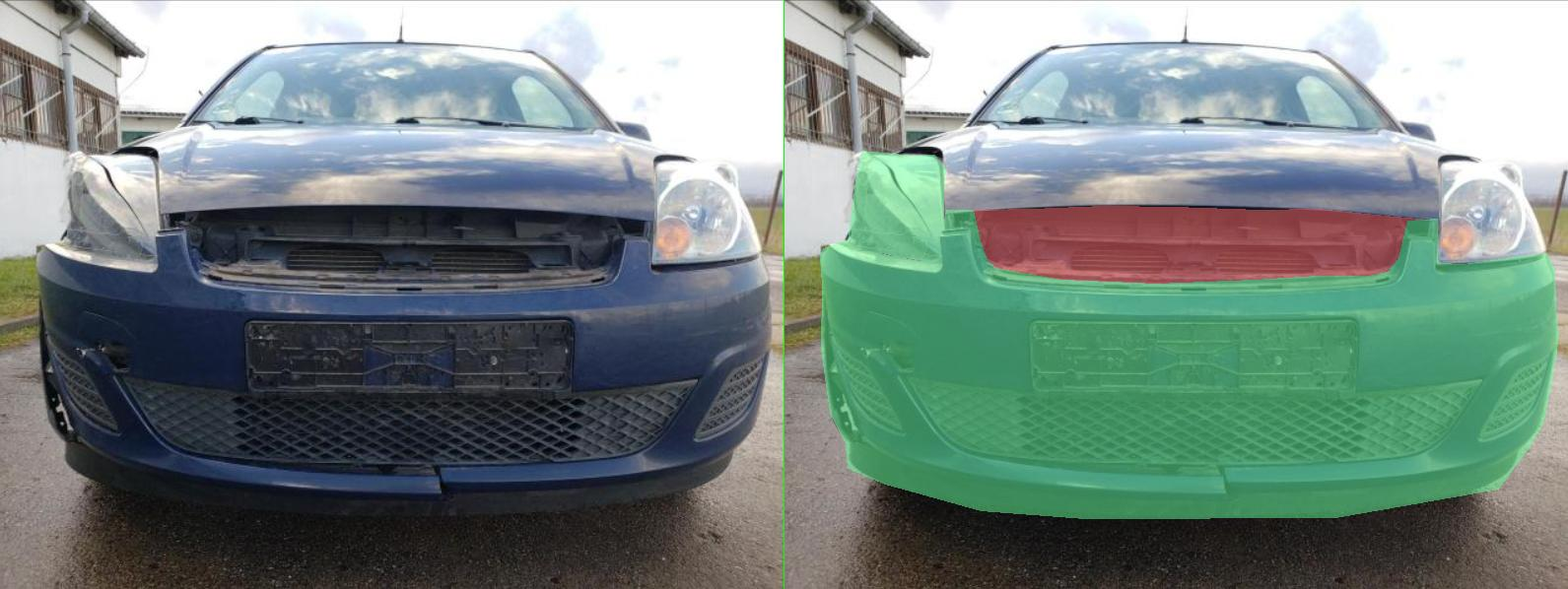Broken part: (71, 210, 1548, 518), (126, 151, 321, 262)
Missing part: (327, 206, 1290, 294), (499, 320, 1148, 392)
